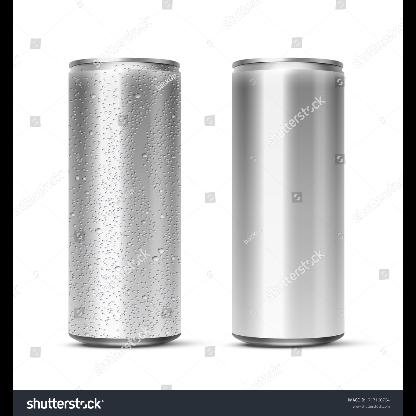Tin_Can: (63, 51, 194, 359), (220, 52, 350, 348)
